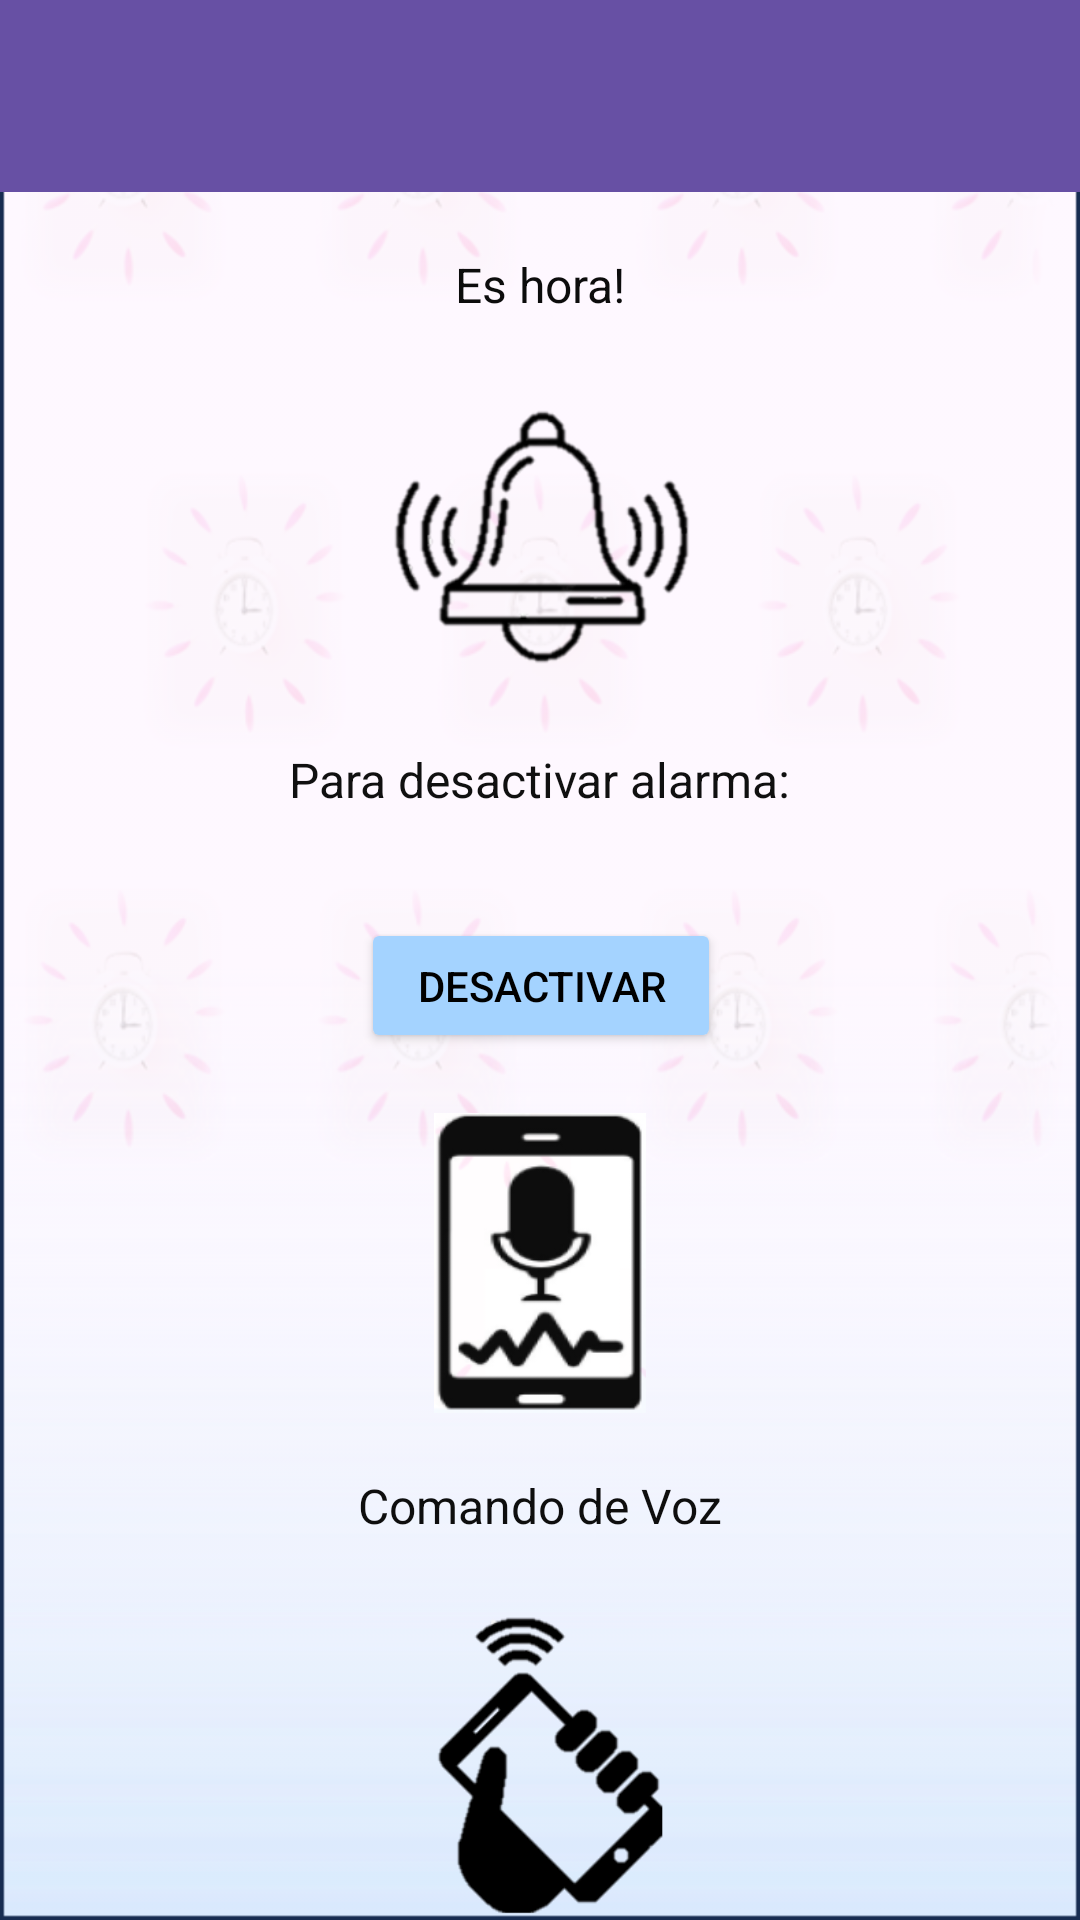

Where to tap for icons on this 1080px×1920px app screen, as (x=x, y=y):
agitar: (x=550, y=1765)
